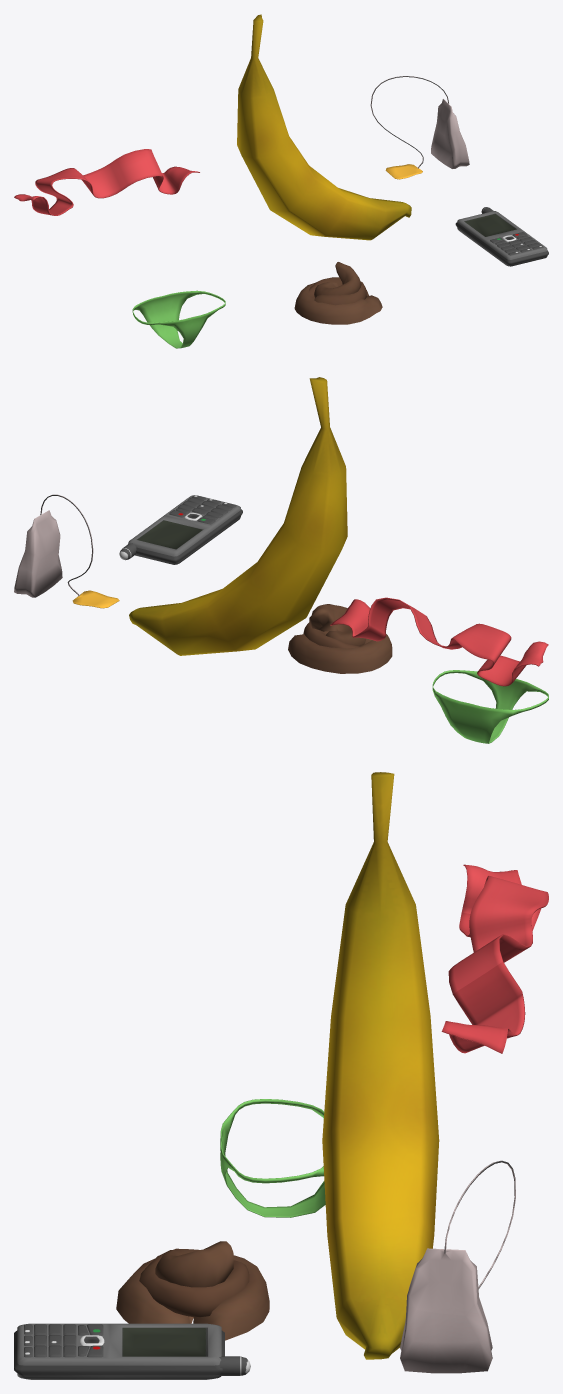
The model's file is 6_ingredients_assets.fbx.
The picture shows the model from 3 angles, top to bottom: view 1: azimuth 30°, elevation 25°; view 2: azimuth 150°, elevation 25°; view 3: azimuth 270°, elevation 25°; orthographic projection. The views are drawn at different scales.
Parts seen in each view (by area): view 1: crap, crap.005, crap.003, crap.002, crap.001, crap.004; view 2: crap, crap.005, crap.002, crap.003, crap.004, crap.001; view 3: crap, crap.002, crap.005, crap.003, crap.004, crap.001.
Boxes of the visible parts, left/top/right/bottom form: crap: left=237, top=14, right=411, bottom=240; crap.005: left=14, top=149, right=199, bottom=215; crap.003: left=294, top=262, right=382, bottom=324; crap.002: left=455, top=207, right=548, bottom=266; crap.001: left=132, top=290, right=225, bottom=348; crap.004: left=370, top=76, right=469, bottom=179; crap: left=129, top=377, right=347, bottom=655; crap.005: left=330, top=597, right=548, bottom=686; crap.002: left=119, top=495, right=242, bottom=564; crap.003: left=288, top=604, right=392, bottom=673; crap.004: left=14, top=494, right=119, bottom=608; crap.001: left=432, top=670, right=548, bottom=743; crap: left=322, top=772, right=439, bottom=1359; crap.002: left=14, top=1323, right=250, bottom=1379; crap.005: left=441, top=864, right=548, bottom=1053; crap.003: left=116, top=1241, right=269, bottom=1340; crap.004: left=400, top=1160, right=515, bottom=1373; crap.001: left=220, top=1099, right=325, bottom=1217.
Size of the model in its own units: 561 by 315 by 354.
Materials: 1 (1 with a texture image).
